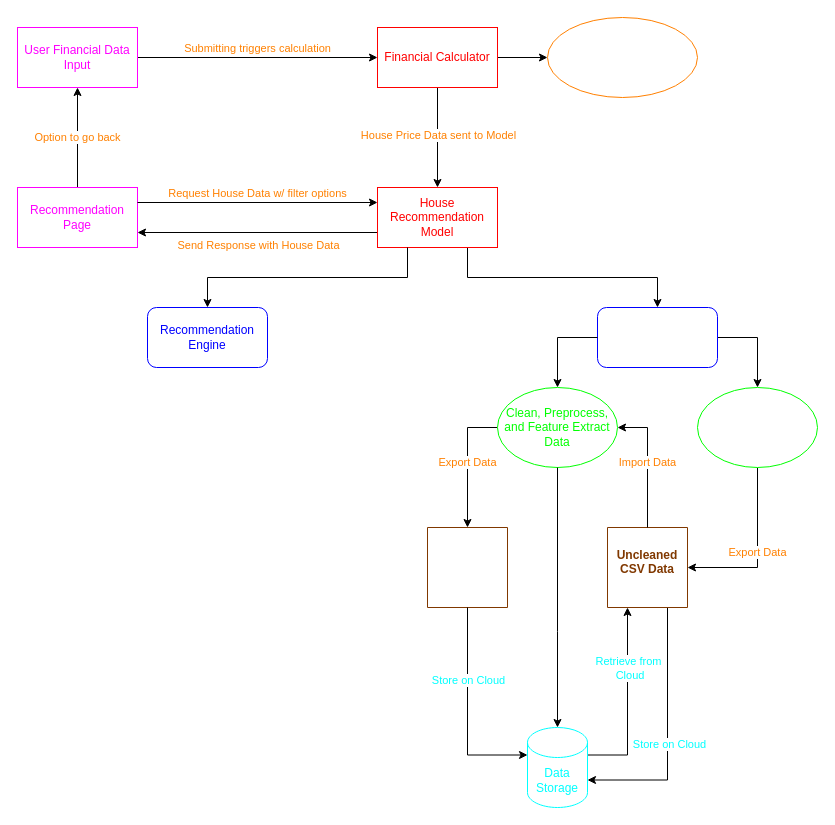
The diagram is 835 pixels wide and 825 high, and some of its shapes have lost their labels. Each missing label, with the centre of its shape:
"Calculates the Price of a House a User can successfully pay" belongs at [622,57].
"Cleaned CSV Data" belongs at [467,567].
"Data Pipeline" belongs at [657,337].
"Web Scrape Data from MLS.com" belongs at [757,427].
